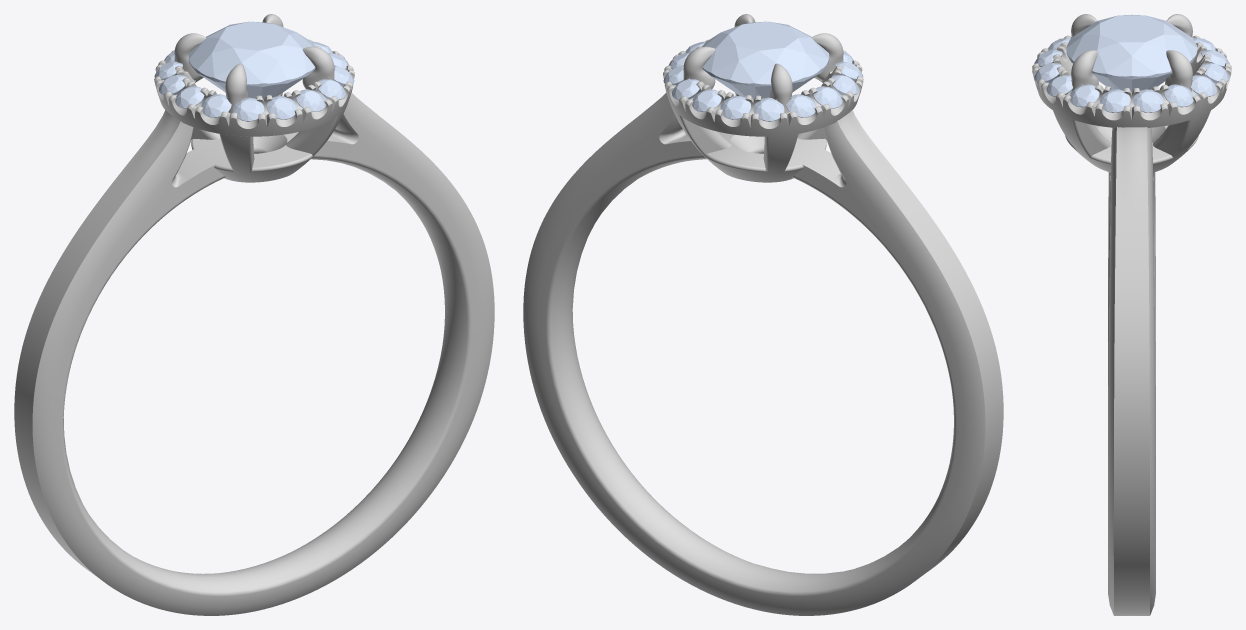
The picture shows the model from 3 angles, left to right: view 1: azimuth 30°, elevation 25°; view 2: azimuth 150°, elevation 25°; view 3: azimuth 270°, elevation 25°; orthographic projection.
Visible parts, largest first — view 1: Lumina_R15_0.5ct.3dm, Gem; view 2: Lumina_R15_0.5ct.3dm, Gem; view 3: Lumina_R15_0.5ct.3dm, Gem (×9).
Part boxes in pixels (<box>): Lumina_R15_0.5ct.3dm: <box>14,14,494,615</box>; Gem: <box>188,21,315,99</box>; Lumina_R15_0.5ct.3dm: <box>523,14,1003,615</box>; Gem: <box>702,21,829,99</box>; Lumina_R15_0.5ct.3dm: <box>1032,14,1231,615</box>; Gem (×9): <box>1034,14,1229,112</box>.
Size of the model in its own units: 2.52 by 2.96 by 0.9511.
